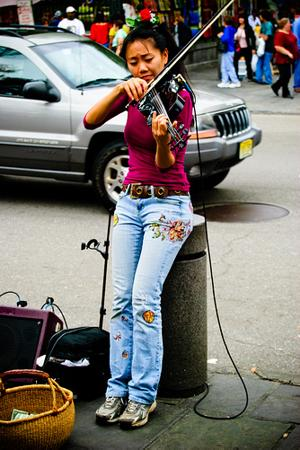person: (83, 22, 196, 429)
